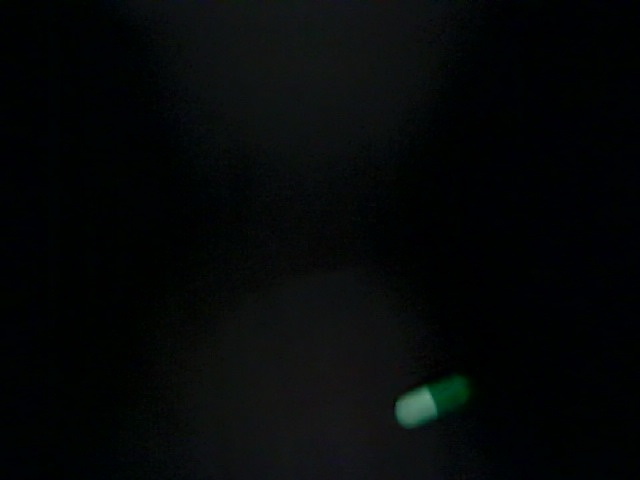YHLJ: (204, 96, 305, 161)
